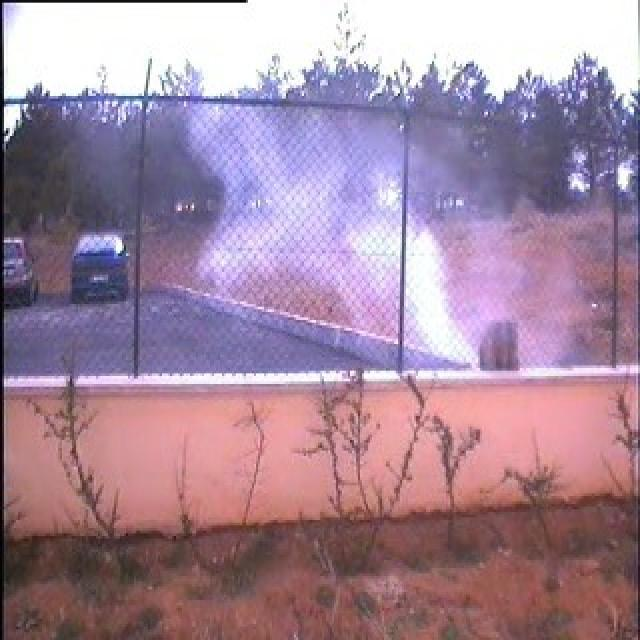Smoke: (191, 102, 478, 368)
